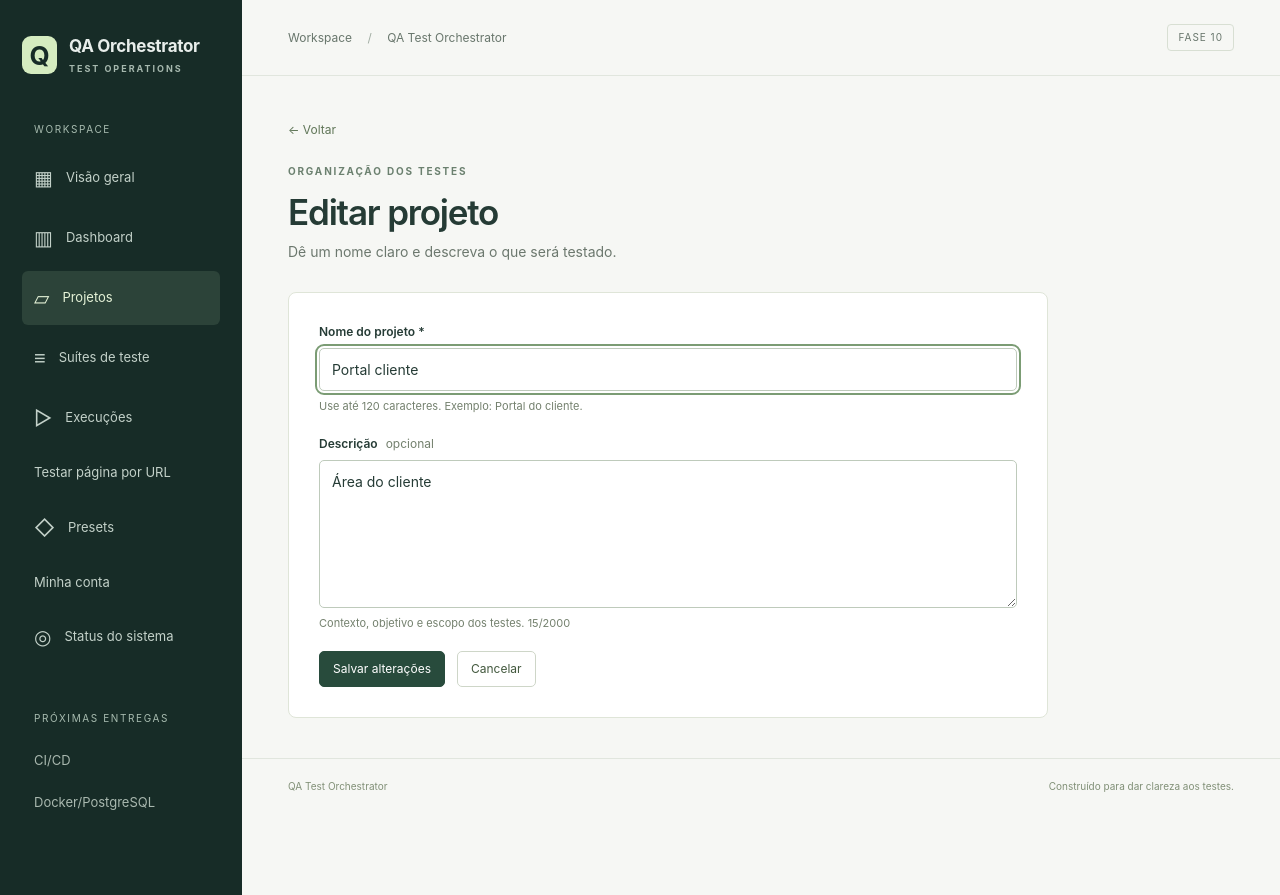
Projetos › envia a versão na edição e apresenta conflito sem perder o formulário
Replace the text in the field labelled "Nome do projeto *" with "Portal atualizado": (668, 370) [319,348,1017,391]
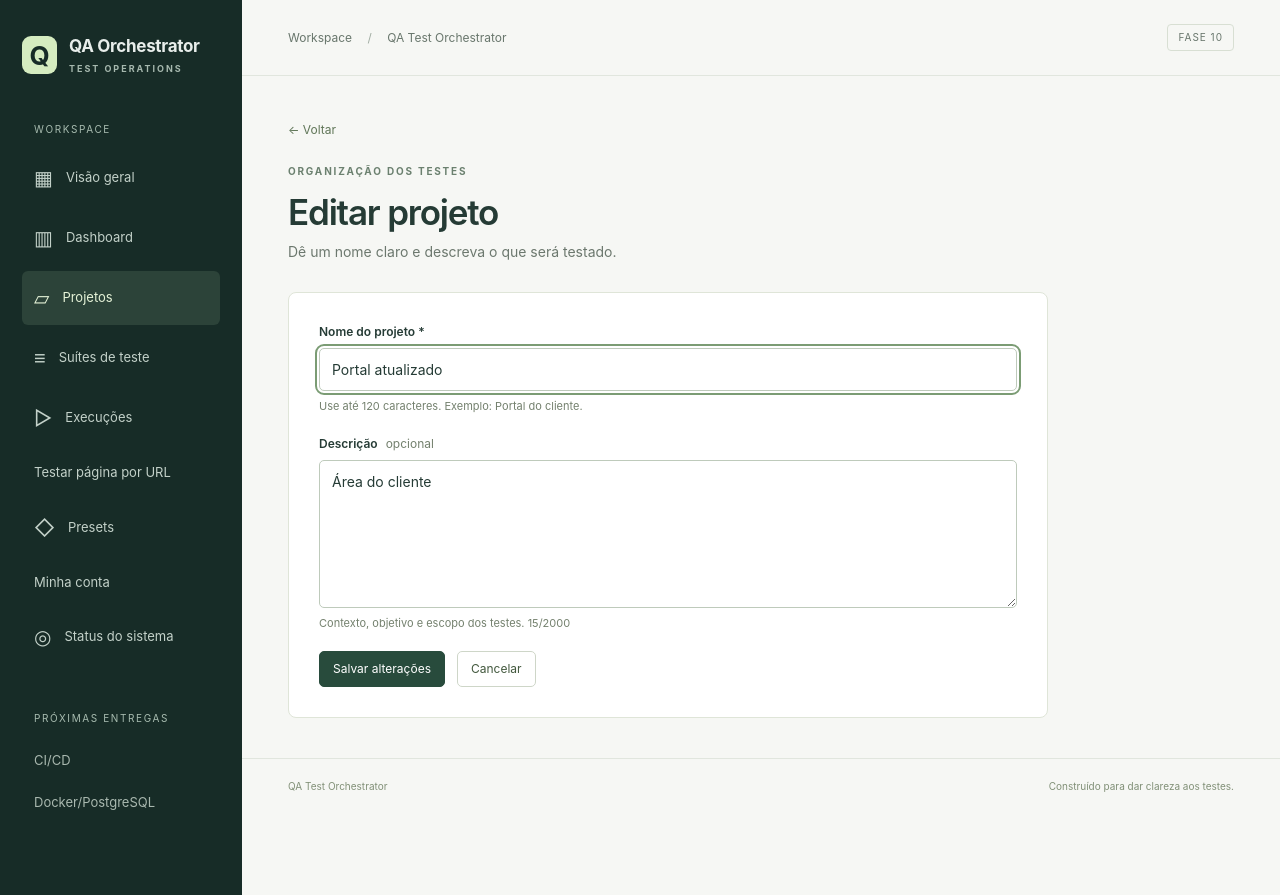
Click the button "Salvar alterações": (382, 669) [319,651,445,687]
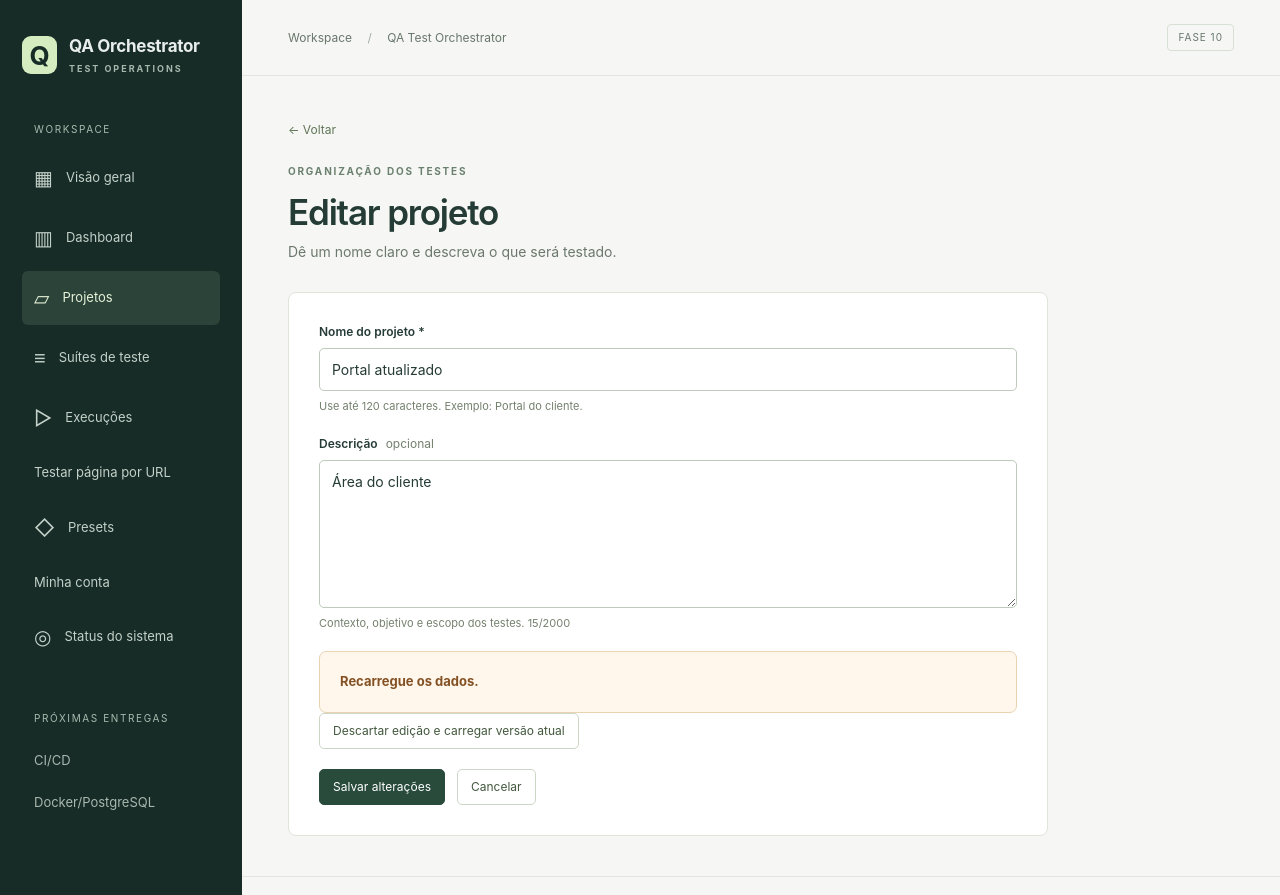
Now the message reads "Recarregue os dados.", box [340,673,479,689]
Now the button "Descartar edição e carregar versão atual" is shown, box [319,712,579,748]
